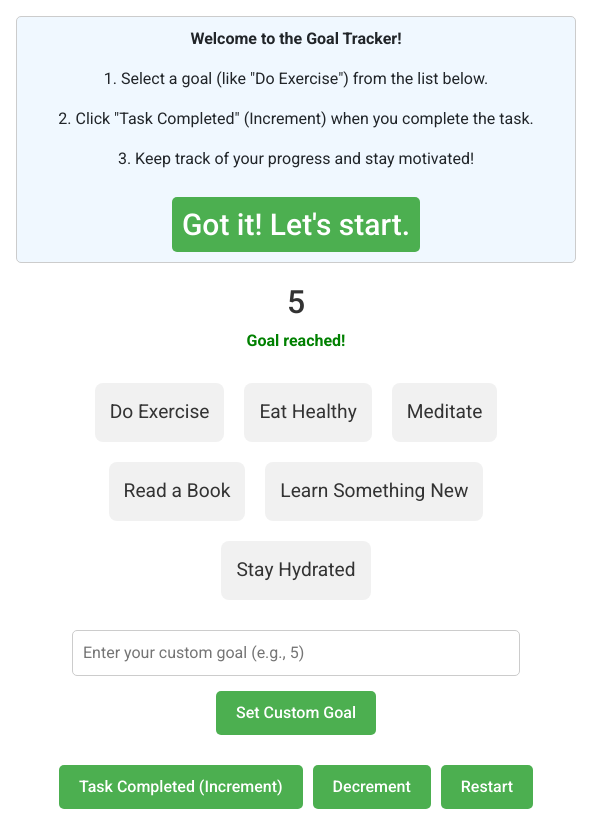
it: Counter › resets the count to 0 when the restart button is clicked
Click the button with test id "restart".
click(487, 787)  # box x1=441 y1=765 x2=533 y2=809
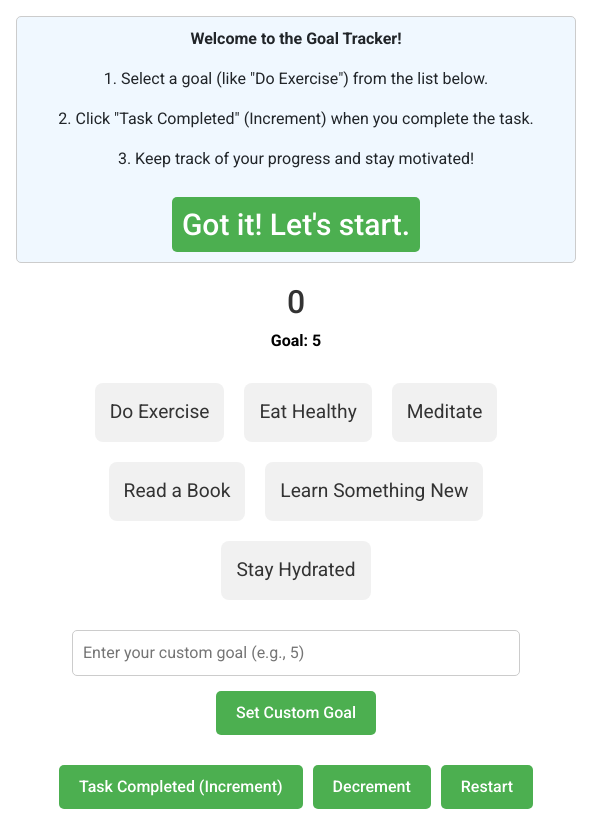
Now the heading "0" is shown, box x1=287 y1=283 x2=305 y2=321
